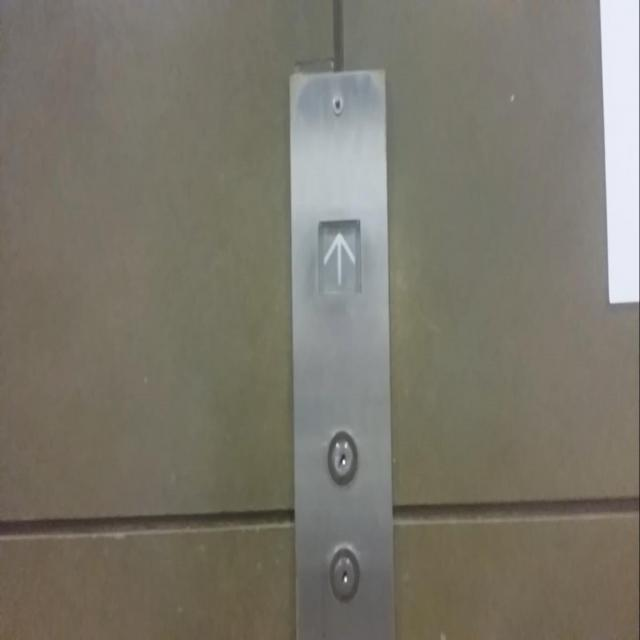keyhole: (327, 542, 362, 606), (326, 427, 359, 488)
up: (317, 218, 362, 301)
